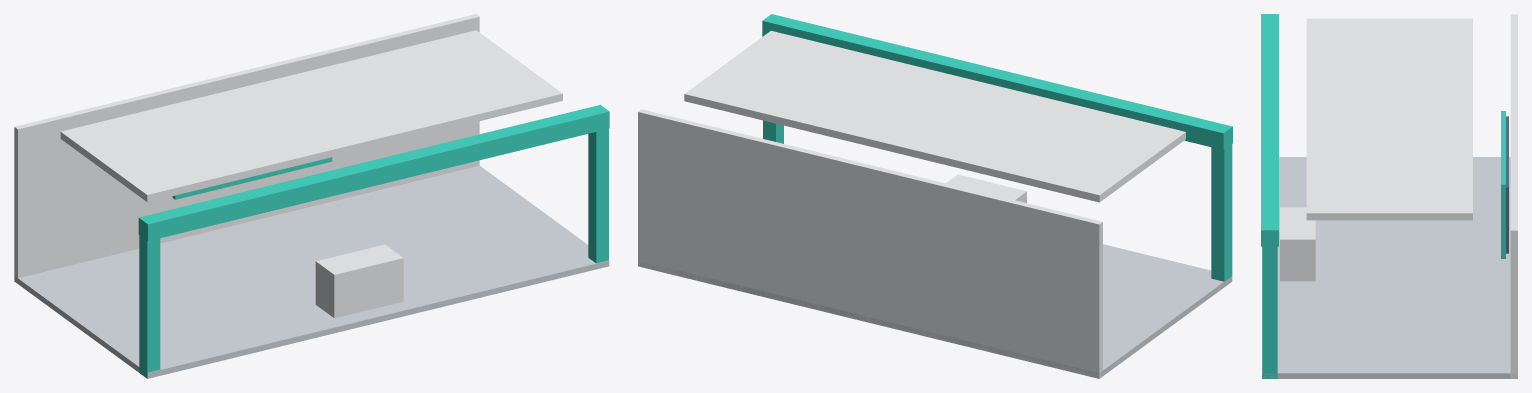
3 views of the same model, side by side, from view 1: azimuth 30°, elevation 25°; view 2: azimuth 150°, elevation 25°; view 3: azimuth 270°, elevation 25° (orthographic). The views are drawn at different scales.
Visible parts, largest first — view 1: Exhibition Booth Concept; view 2: Exhibition Booth Concept; view 3: Exhibition Booth Concept.
Part boxes in pixels (x1,y1,x2,y2): Exhibition Booth Concept: (14, 14, 609, 378); Exhibition Booth Concept: (638, 14, 1232, 378); Exhibition Booth Concept: (1261, 14, 1517, 378).
Bounding box in the file's own units: 10 × 3.34 × 5.02.
